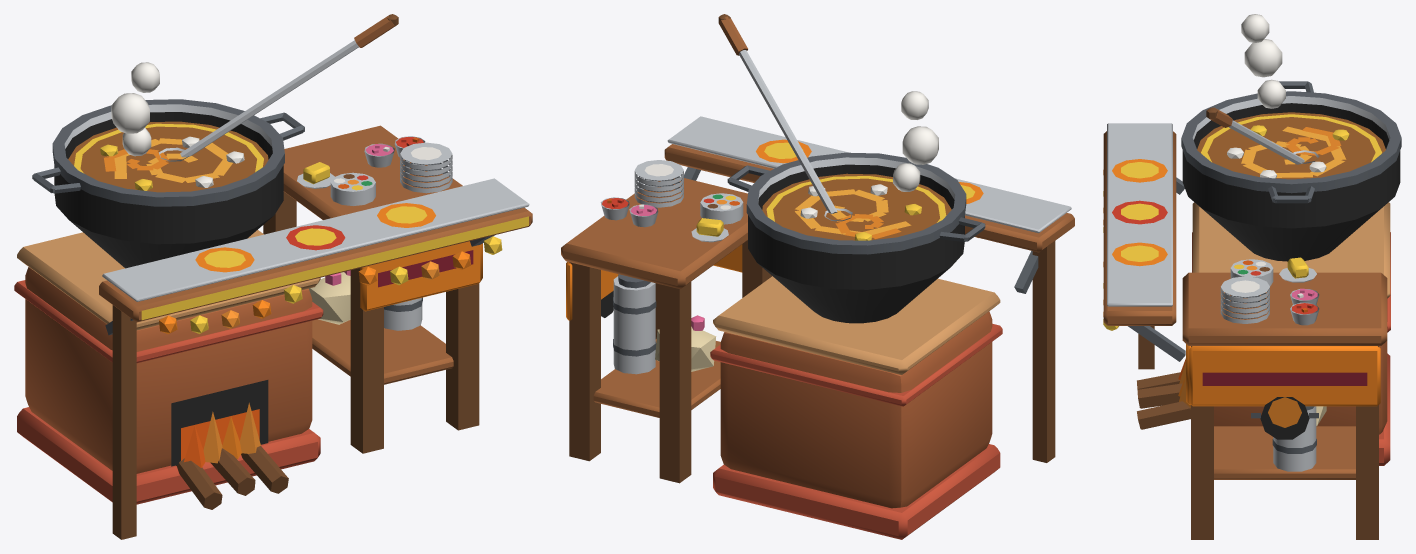
File: kadai_station.glb
3 renders of one model, left to right at view 1: azimuth 30°, elevation 25°; view 2: azimuth 150°, elevation 25°; view 3: azimuth 270°, elevation 25°, orthographic. The views are drawn at different scales.
Parts seen in each view (by area): view 1: base, karchhi; view 2: base, karchhi; view 3: base, karchhi.
Boxes of the visible parts, <box> form: base: <box>14,62,532,539</box>; karchhi: <box>159,14,398,161</box>; base: <box>561,91,1074,539</box>; karchhi: <box>718,14,852,221</box>; base: <box>1103,14,1401,539</box>; karchhi: <box>1206,107,1319,164</box>.
Size of the model in its own units: 1.32 by 1.33 by 0.905.
Materials: 1 (1 with a texture image).
